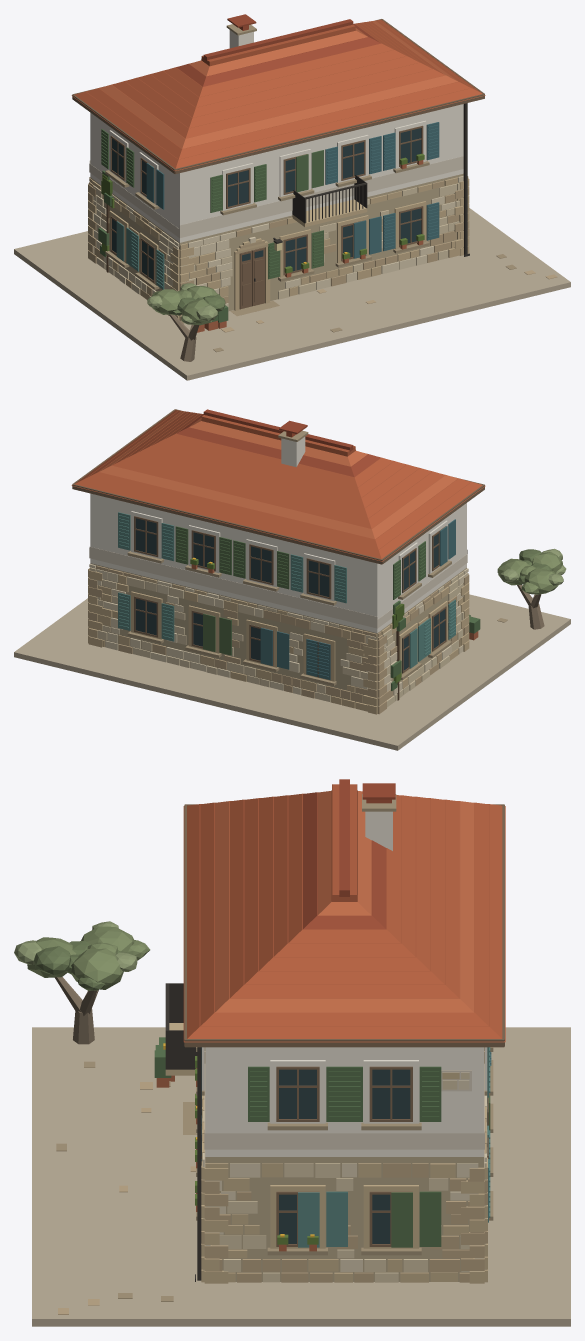
File: ev-karisik-uzun.glb
The picture shows the model from 3 angles, top to bottom: view 1: azimuth 30°, elevation 25°; view 2: azimuth 150°, elevation 25°; view 3: azimuth 270°, elevation 25°; orthographic projection. The views are drawn at different scales.
Parts seen in each view (by area): view 1: zemin, kiremit1, badana, tas2, ahsap, kiremit3, harc, cam, kepenk, badana_kir, tas3, kiremit4 (+12 smaller); view 2: kiremit1, zemin, badana, tas2, ahsap, harc, kiremit3, cam, tas3, tas1, badana_kir, tas4 (+9 smaller); view 3: zemin, kiremit1, badana, kiremit3, tas2, harc, tas3, yesil_kepenk, ahsap, kiremit4, cam, badana_kir (+9 smaller).
Boxes of the visible parts, x1=… form: zemin: x1=14, y1=208, x2=570, y2=380; kiremit1: x1=71, y1=19, x2=485, y2=171; badana: x1=90, y1=30, x2=463, y2=242; tas2: x1=88, y1=176, x2=469, y2=319; ahsap: x1=72, y1=19, x2=484, y2=308; kiremit3: x1=99, y1=20, x2=457, y2=148; harc: x1=90, y1=173, x2=463, y2=315; cam: x1=112, y1=128, x2=421, y2=282; kepenk: x1=146, y1=122, x2=439, y2=258; badana_kir: x1=89, y1=156, x2=463, y2=238; tas3: x1=88, y1=177, x2=557, y2=332; kiremit4: x1=176, y1=14, x2=380, y2=86; kiremit1: x1=71, y1=410, x2=485, y2=561; zemin: x1=14, y1=594, x2=570, y2=750; badana: x1=90, y1=437, x2=466, y2=632; tas2: x1=88, y1=570, x2=469, y2=714; ahsap: x1=72, y1=409, x2=484, y2=679; harc: x1=90, y1=563, x2=466, y2=706; kiremit3: x1=99, y1=411, x2=457, y2=539; cam: x1=135, y1=518, x2=445, y2=672; tas3: x1=88, y1=565, x2=469, y2=714; tas1: x1=89, y1=567, x2=468, y2=707; badana_kir: x1=89, y1=547, x2=467, y2=628; tas4: x1=89, y1=564, x2=468, y2=706; zemin: x1=32, y1=1027, x2=570, y2=1326; kiremit1: x1=183, y1=784, x2=505, y2=1042; badana: x1=202, y1=811, x2=487, y2=1156; kiremit3: x1=215, y1=791, x2=474, y2=1012; tas2: x1=165, y1=1023, x2=487, y2=1283; harc: x1=205, y1=1157, x2=483, y2=1281; tas3: x1=58, y1=1047, x2=487, y2=1314; yesil_kepenk: x1=248, y1=1066, x2=490, y2=1247; ahsap: x1=184, y1=804, x2=504, y2=1246; kiremit4: x1=303, y1=779, x2=395, y2=929; cam: x1=201, y1=1069, x2=487, y2=1243; badana_kir: x1=204, y1=1070, x2=484, y2=1149.
Bounding box in the file's own units: 16.65 × 9.5 × 12.92.
